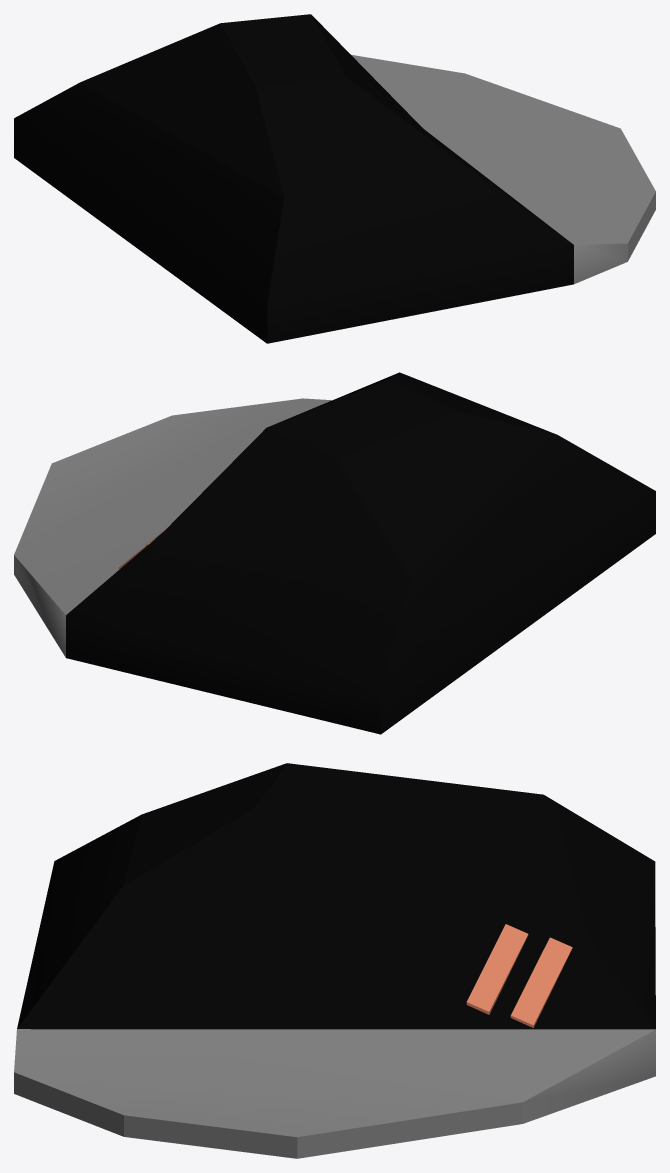
File: SteveHat.fbx
3 views of the same model, one above another, from view 1: azimuth 30°, elevation 25°; view 2: azimuth 150°, elevation 25°; view 3: azimuth 270°, elevation 25° (orthographic). The views are drawn at different scales.
Visible parts, largest first — view 1: pCube10; view 2: pCube10; view 3: pCube10.
Part boxes in pixels (x1,y1,x2,y2): pCube10: [14, 14, 655, 343]; pCube10: [14, 372, 655, 734]; pCube10: [14, 763, 655, 1158].
Size of the model in its own units: 1.11 by 0.3817 by 1.14.
